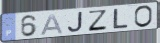6: (20, 14, 39, 38)
A: (39, 13, 65, 36)
J: (66, 11, 84, 33)
L: (112, 8, 130, 30)
O: (134, 4, 154, 29)
Z: (87, 9, 108, 32)
